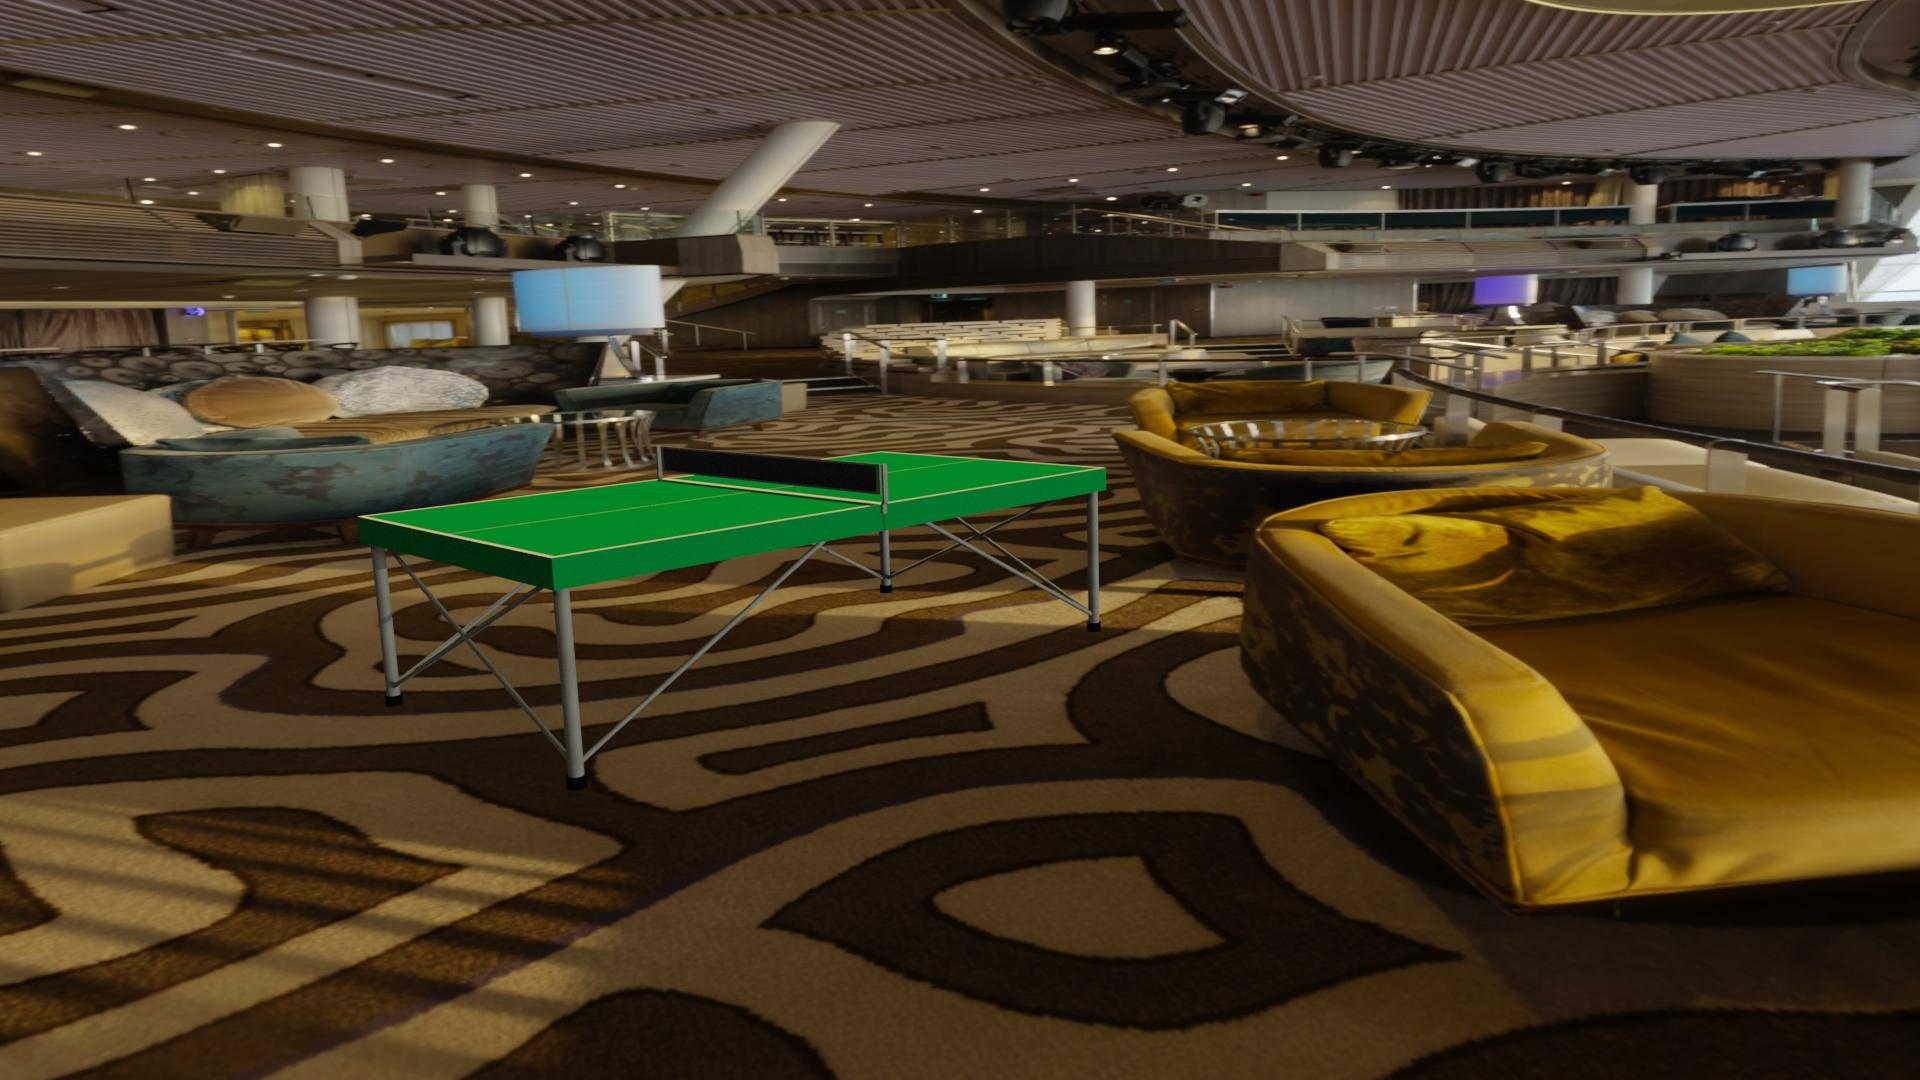table: (365, 452, 1100, 556)
